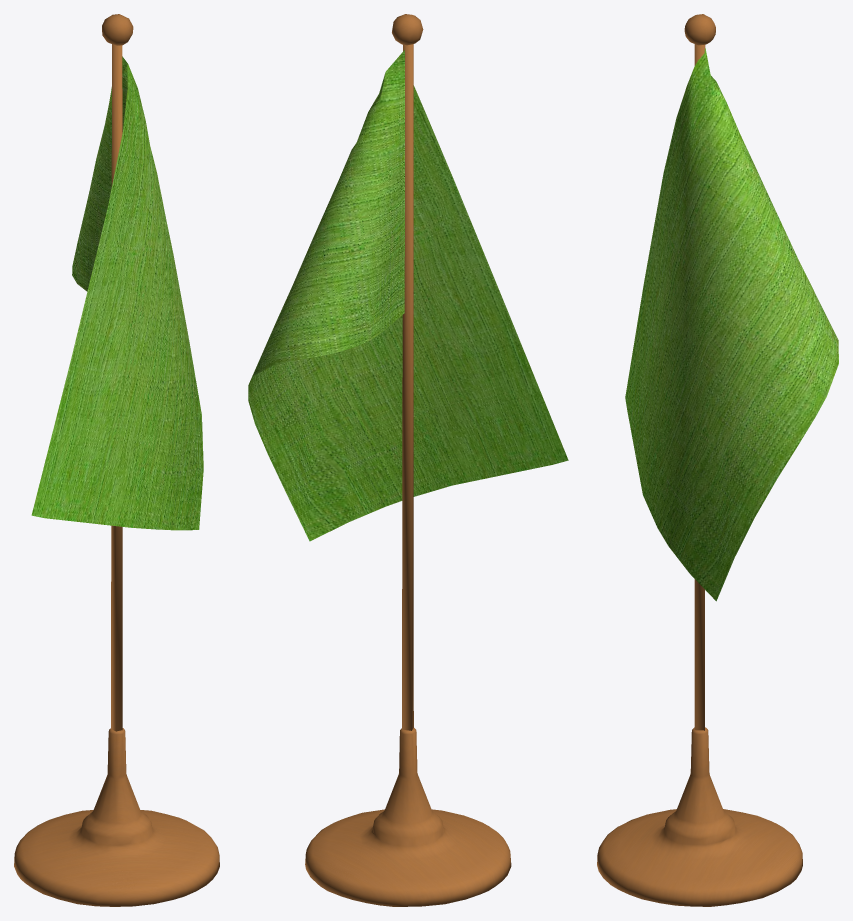
Rendered from flags.glb.
3 views of the same model, side by side, from view 1: azimuth 30°, elevation 25°; view 2: azimuth 150°, elevation 25°; view 3: azimuth 270°, elevation 25° (orthographic).
Visible parts, largest first — view 1: Green; view 2: Green; view 3: Green.
Part boxes in pixels (x1=…): Green: x1=14, y1=14, x2=219, y2=906; Green: x1=248, y1=14, x2=568, y2=906; Green: x1=597, y1=14, x2=838, y2=906.
Bounding box in the file's own units: 25.46 × 86.77 × 22.43.
2 materials, 2 textured.
